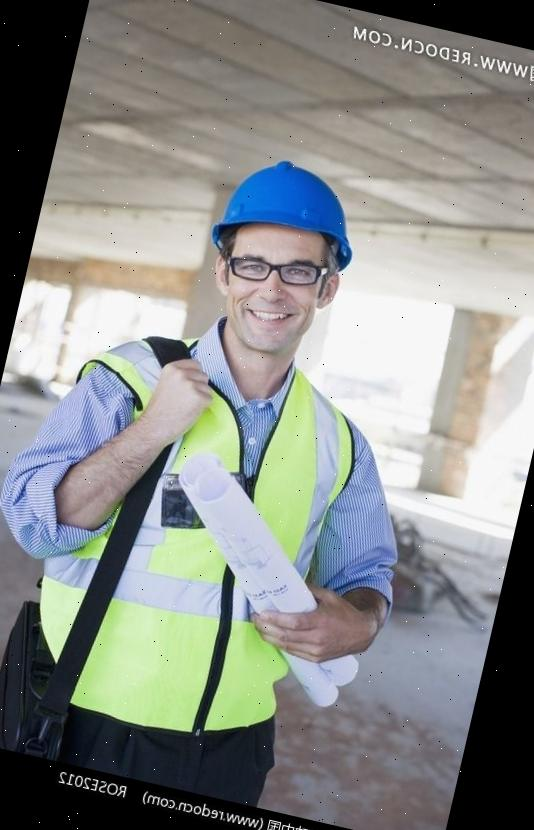helmet: (208, 144, 372, 273)
wear: (22, 324, 372, 756)
